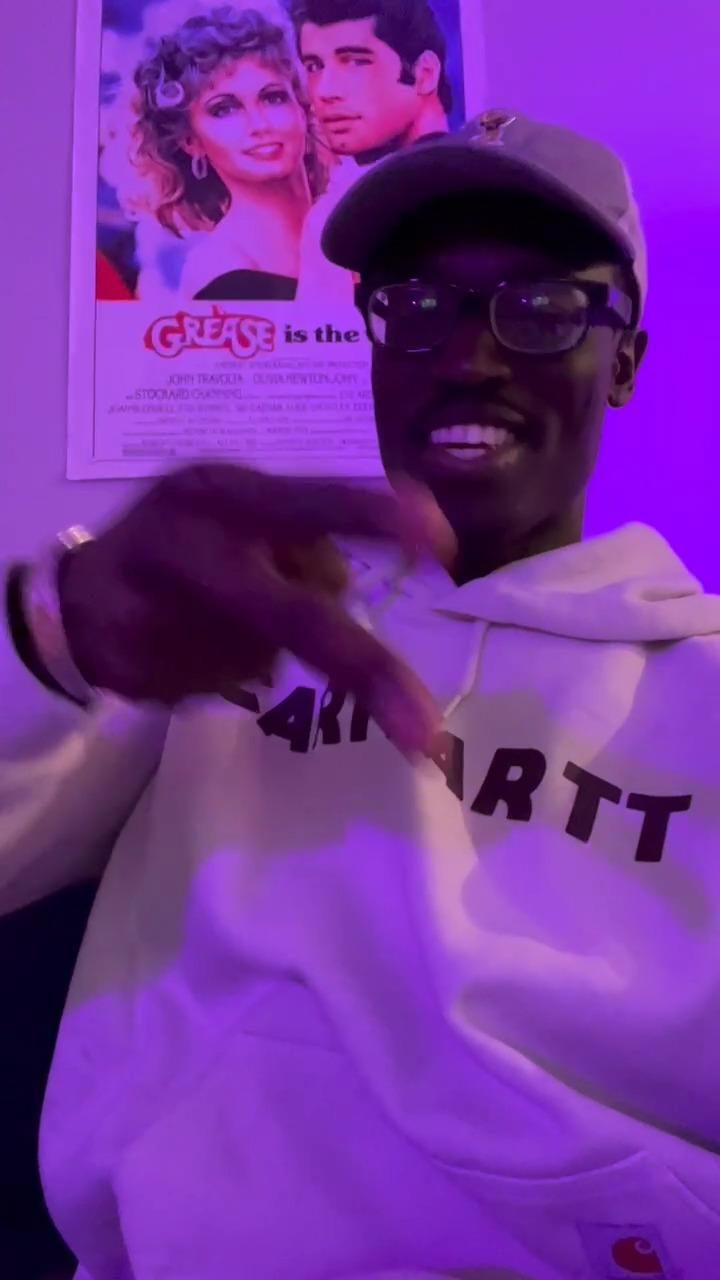Scissors: (60, 452, 457, 761)
